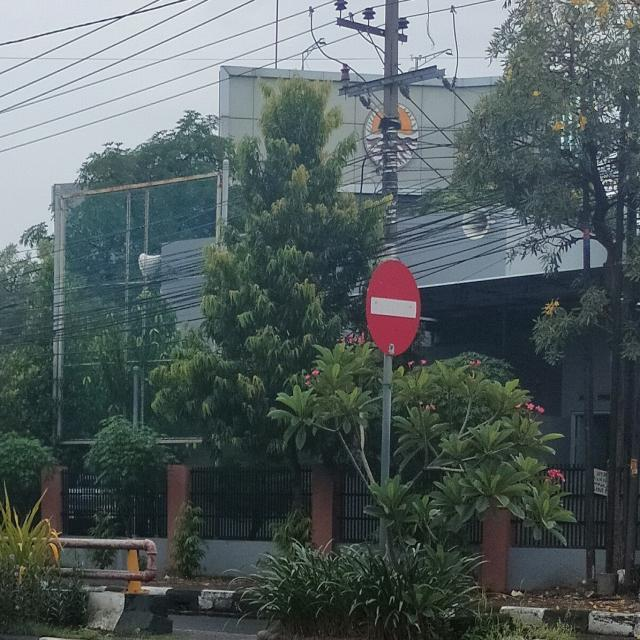Dilarang Masuk: (366, 258, 422, 356)
